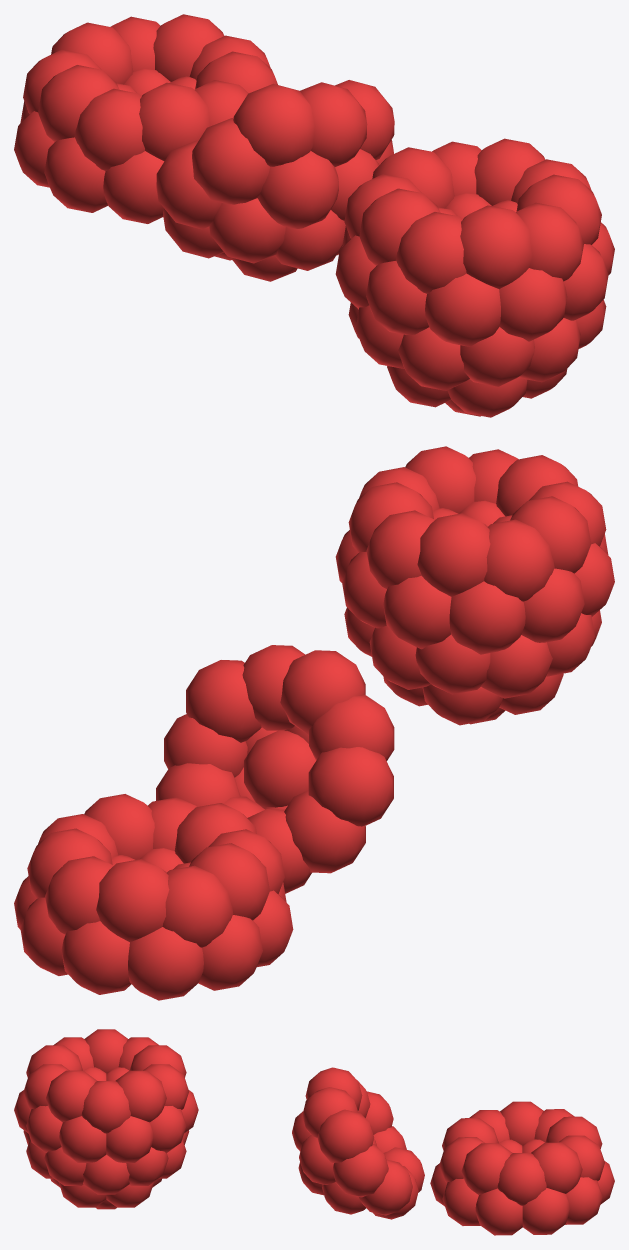
The model's file is malina.glb.
3 views of the same model, one above another, from view 1: azimuth 30°, elevation 25°; view 2: azimuth 150°, elevation 25°; view 3: azimuth 270°, elevation 25° (orthographic). The views are drawn at different scales.
Visible parts, largest first — view 1: Icosphere.008, Icosphere.035, Icosphere.002; view 2: Icosphere.008, Icosphere.035, Icosphere.002; view 3: Icosphere.008, Icosphere.035, Icosphere.002.
Part boxes in pixels (bbox=[...]): Icosphere.008: bbox=[335, 138, 614, 417]; Icosphere.035: bbox=[14, 14, 277, 223]; Icosphere.002: bbox=[156, 80, 394, 281]; Icosphere.008: bbox=[335, 446, 614, 725]; Icosphere.035: bbox=[14, 794, 293, 1000]; Icosphere.002: bbox=[156, 645, 394, 893]; Icosphere.008: bbox=[14, 1029, 198, 1209]; Icosphere.035: bbox=[430, 1101, 614, 1235]; Icosphere.002: bbox=[292, 1067, 424, 1219].
Bounding box in the file's own units: 0.9227 × 0.9025 × 3.16.
Materials: 3 (3 with a texture image).
